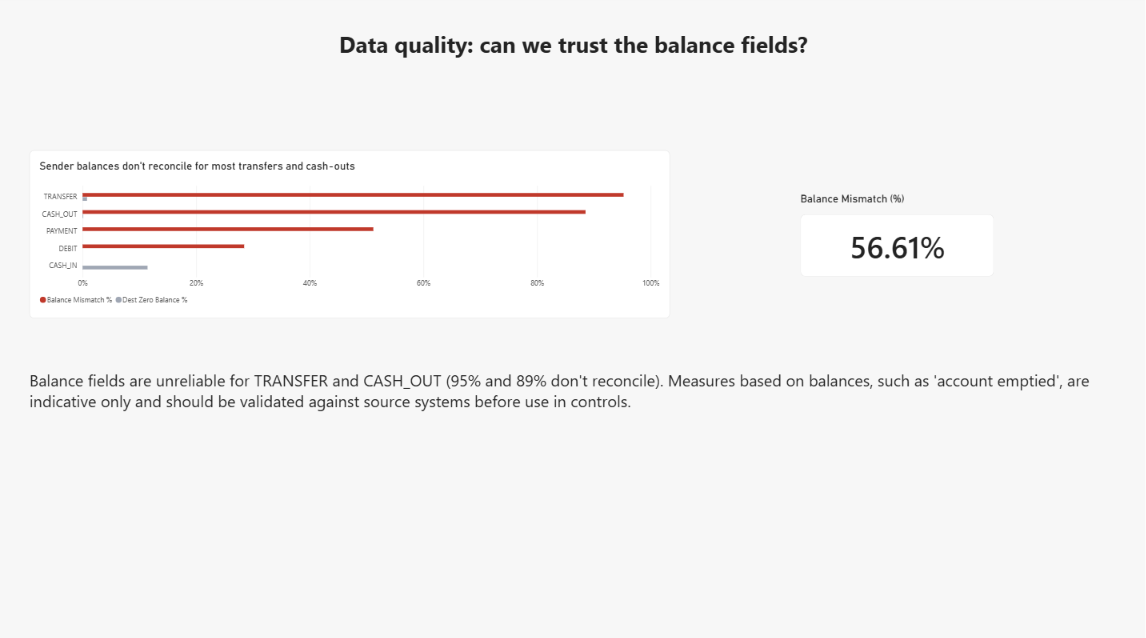

This screenshot's page, from the dashboard's own definition file:
{"tool":"powerbi","page":{"name":"Data quality","canvas":[1920,1080],"ordinal":2},"visuals":[{"type":"clusteredBarChart","title":"Sender balances don''t reconcile for most transfers and cash-outs","fields":{"Category":["Dim_Type.txn_type"],"Y":["_Measures.Balance Mismatch %","_Measures.Dest Zero Balance %"]},"box":[52.5,258.8,1069.5,280.5],"z":0},{"type":"cardVisual","title":"Balance Mismatch (%)","fields":{"Data":["_Measures.Balance Mismatch %"]},"box":[1339.1,329.4,323.9,141.2],"z":1},{"type":"textbox","box":[52.5,624.3,1795.2,99.5],"z":2},{"type":"textbox","box":[0,38,1920.1,124.9],"z":3}]}

Visuals, with their boxes in screenshot pixels (x1, y1, x2, y2), scaled from the page's 1920x1080 canvas onto the 1146x638 screenshot:
"Sender balances don''t reconcile for most transfers and cash-outs" clusteredBarChart: 31, 153, 670, 319
"Balance Mismatch (%)" cardVisual: 799, 195, 993, 278
textbox: 31, 369, 1103, 428
textbox: 0, 22, 1145, 96
